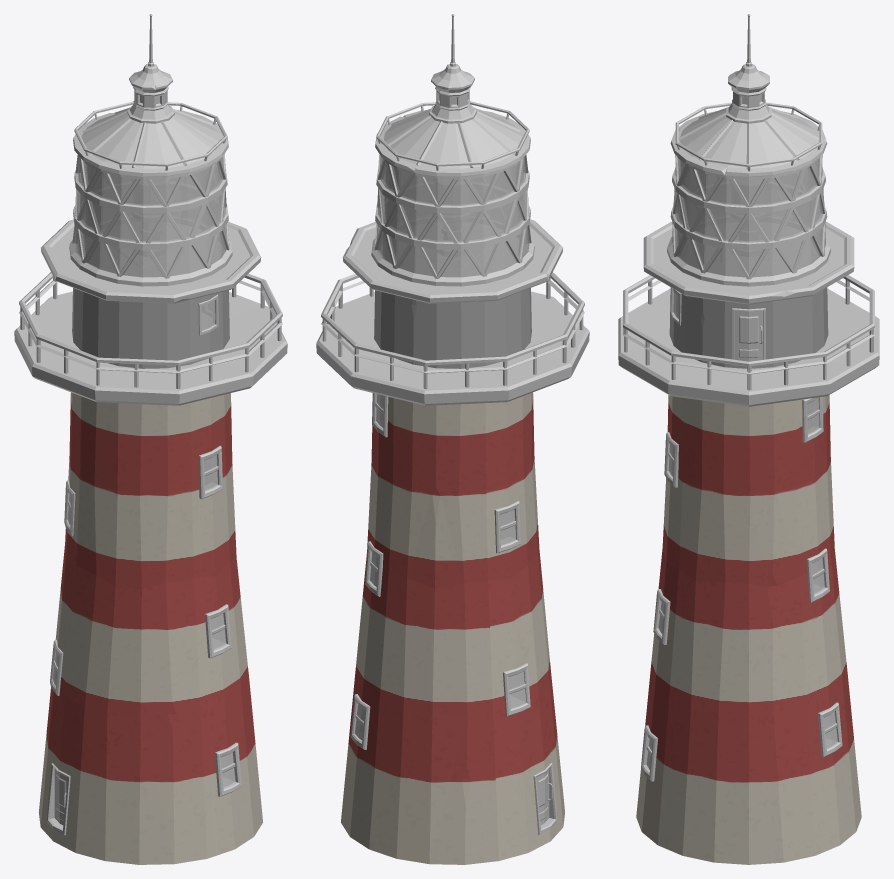
The model's file is SM_Bld_Lighthouse_01.fbx.
The picture shows the model from 3 angles, left to right: view 1: azimuth 30°, elevation 25°; view 2: azimuth 150°, elevation 25°; view 3: azimuth 270°, elevation 25°; orthographic projection.
Parts seen in each view (by area): view 1: SM_Bld_Lighthouse_01, SM_Bld_Lighthouse_01_Glass; view 2: SM_Bld_Lighthouse_01, SM_Bld_Lighthouse_01_Glass; view 3: SM_Bld_Lighthouse_01, SM_Bld_Lighthouse_01_Glass.
Part boxes in pixels (<box>): SM_Bld_Lighthouse_01: <box>14,14,287,864</box>; SM_Bld_Lighthouse_01_Glass: <box>52,156,235,787</box>; SM_Bld_Lighthouse_01: <box>316,14,589,864</box>; SM_Bld_Lighthouse_01_Glass: <box>355,156,529,740</box>; SM_Bld_Lighthouse_01: <box>618,14,879,864</box>; SM_Bld_Lighthouse_01_Glass: <box>646,158,837,769</box>.
Size of the model in its own units: 957 by 3081 by 910.
